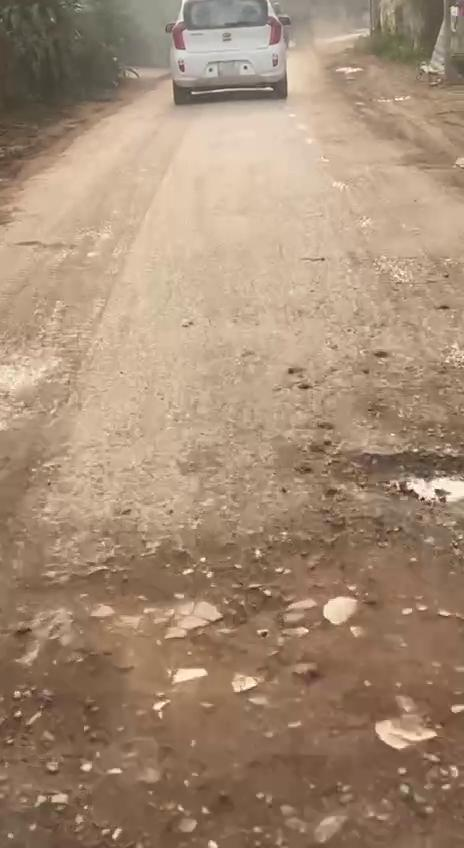pothole: (6, 568, 464, 848), (325, 450, 464, 537)
